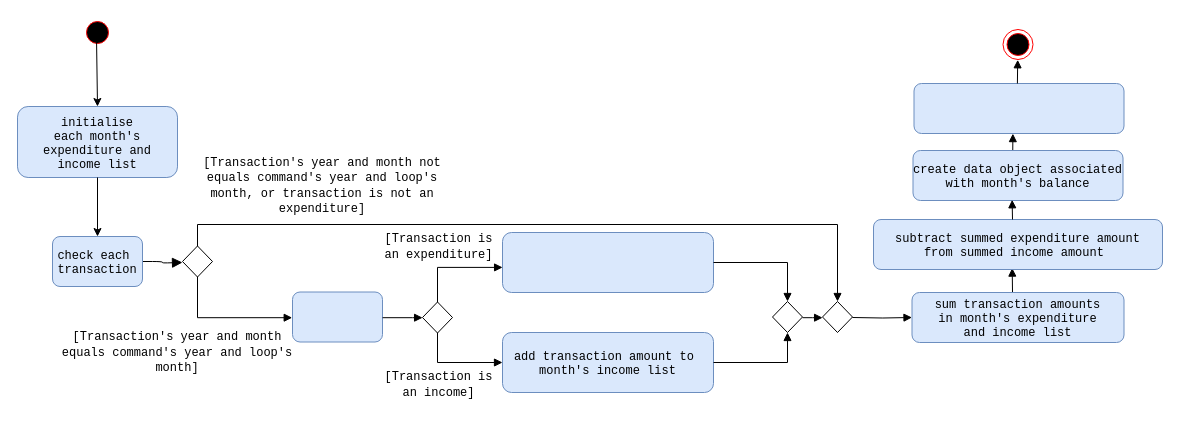
Image size: 1180x425. Some labels were removed from this diagram. The box of each missing label's shape, as (x1, y1, x2, y2) in pixels:
add data object to year's balance list: (913, 82, 1124, 134)
add transaction amount to month's expenditure list: (502, 232, 714, 292)
check transaction type: (292, 291, 382, 342)
